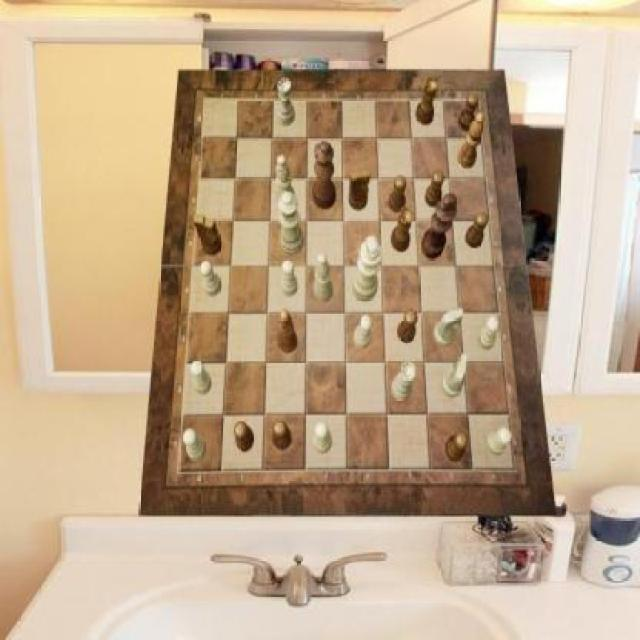bishop: (458, 112, 486, 168), (277, 309, 298, 355)
black-bishop: (422, 194, 458, 260)
black-king: (194, 214, 221, 255), (348, 169, 370, 211)
black-knight: (464, 212, 488, 248), (444, 431, 468, 463), (458, 94, 478, 132), (424, 171, 444, 207), (397, 310, 418, 344), (389, 175, 407, 213), (234, 421, 254, 454), (272, 420, 292, 451)
black-pawn: (312, 143, 336, 211)
black-queen: (417, 77, 440, 125), (391, 208, 413, 253)
black-rook: (277, 154, 297, 208), (314, 254, 334, 303)
white-bishop: (352, 236, 382, 302)
white-king: (442, 352, 469, 398), (434, 308, 464, 346)
white-knight: (478, 315, 501, 350), (200, 262, 222, 298), (183, 428, 206, 462), (190, 360, 212, 395), (486, 428, 512, 455), (352, 315, 372, 350), (313, 422, 332, 456), (282, 259, 299, 296)
white-pawn: (277, 190, 304, 254)
white-queen: (392, 363, 417, 403), (277, 79, 296, 126)
